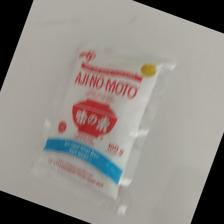Ajinomoto: (32, 50, 162, 198)
